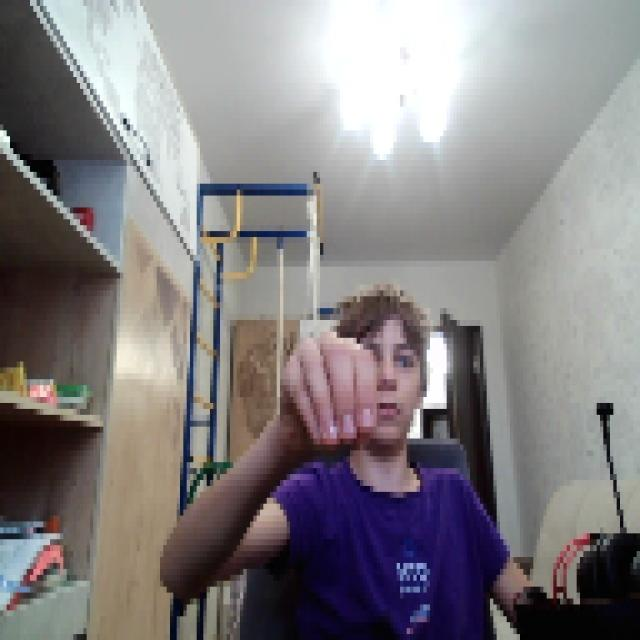left_click: (276, 320, 376, 444)
